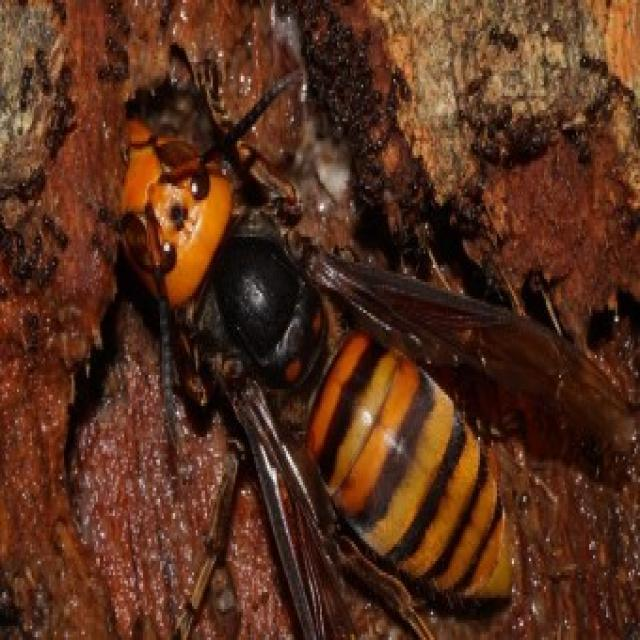Wasp: (100, 69, 590, 638)
